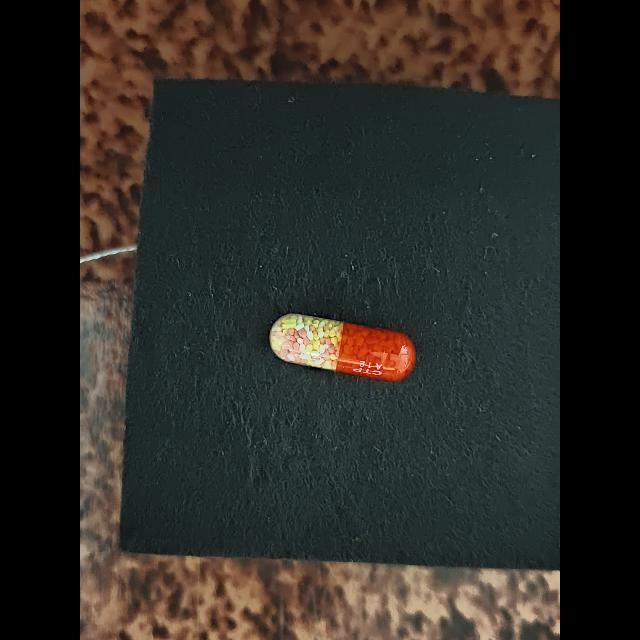Intact Capsule: (269, 313, 416, 381)
